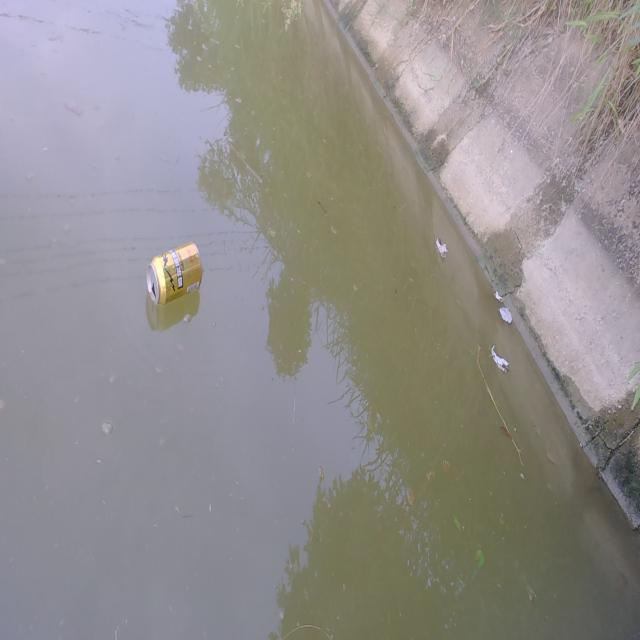garbage: (146, 241, 202, 306)
